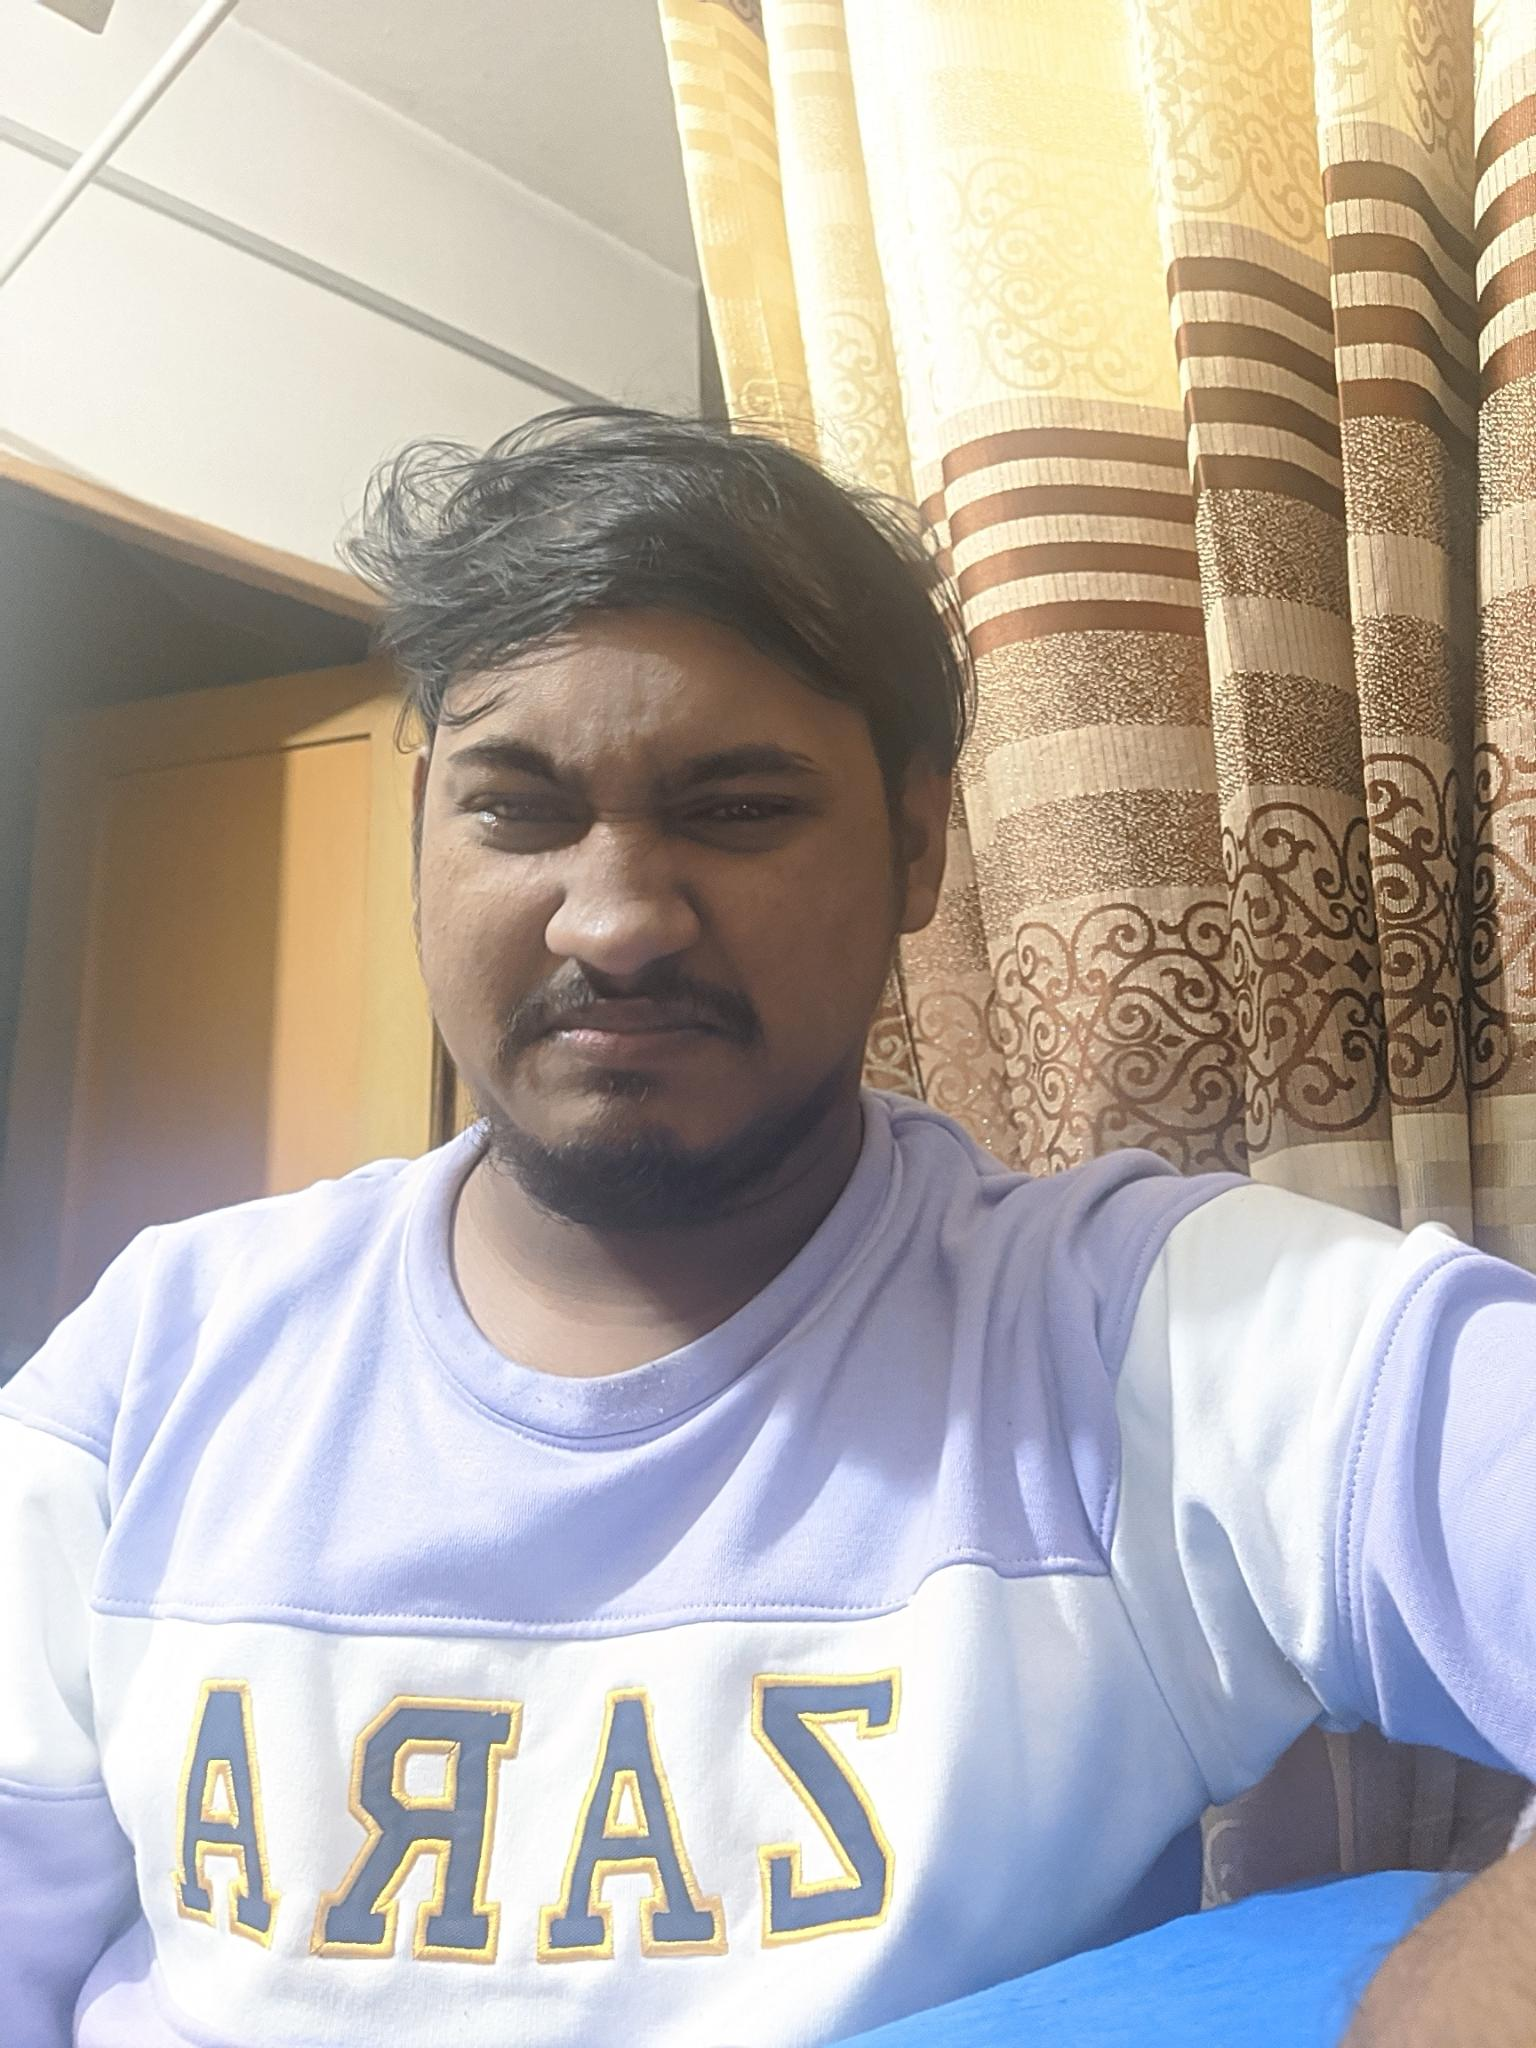Disgust: (410, 650, 895, 1201)
